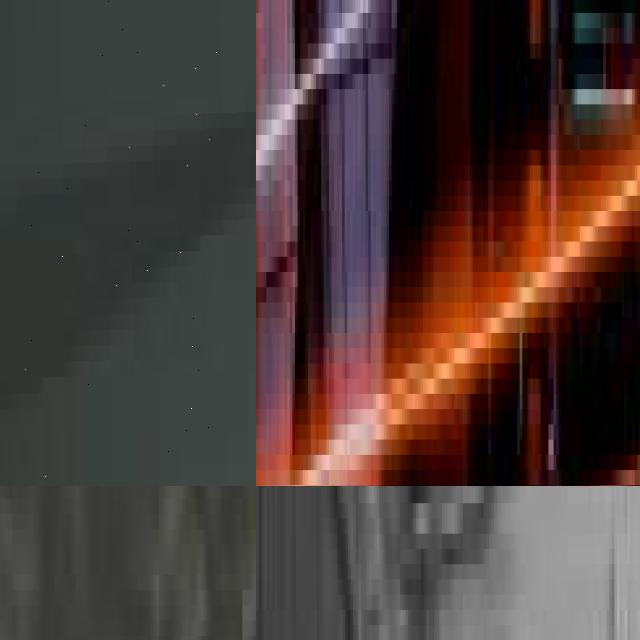street light: (0, 0, 256, 486), (358, 486, 640, 640), (374, 486, 640, 640)
